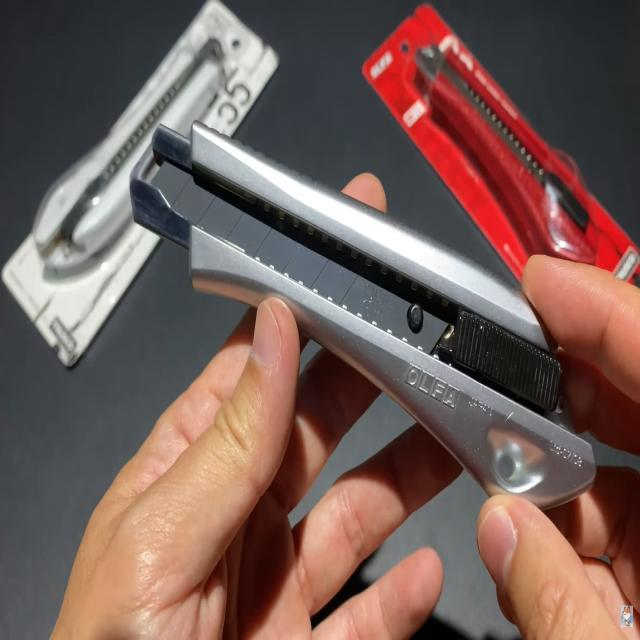cutter: (79, 31, 640, 640)
